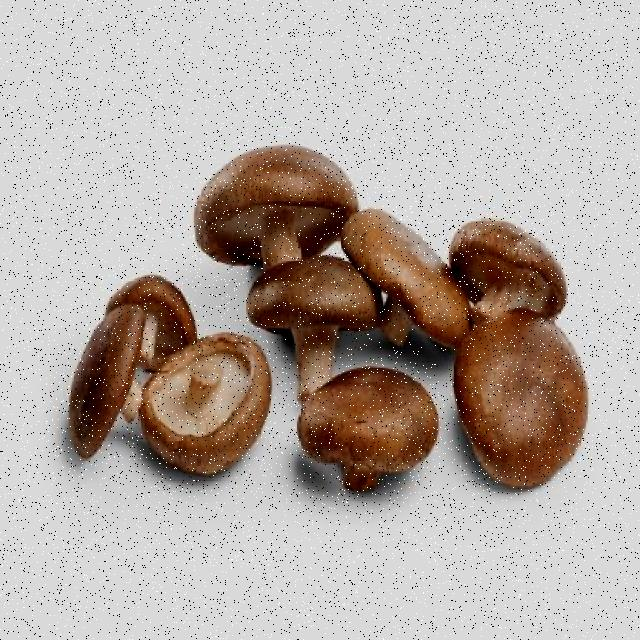Mushroom: (444, 301, 598, 505), (127, 318, 279, 480), (290, 349, 439, 505)
